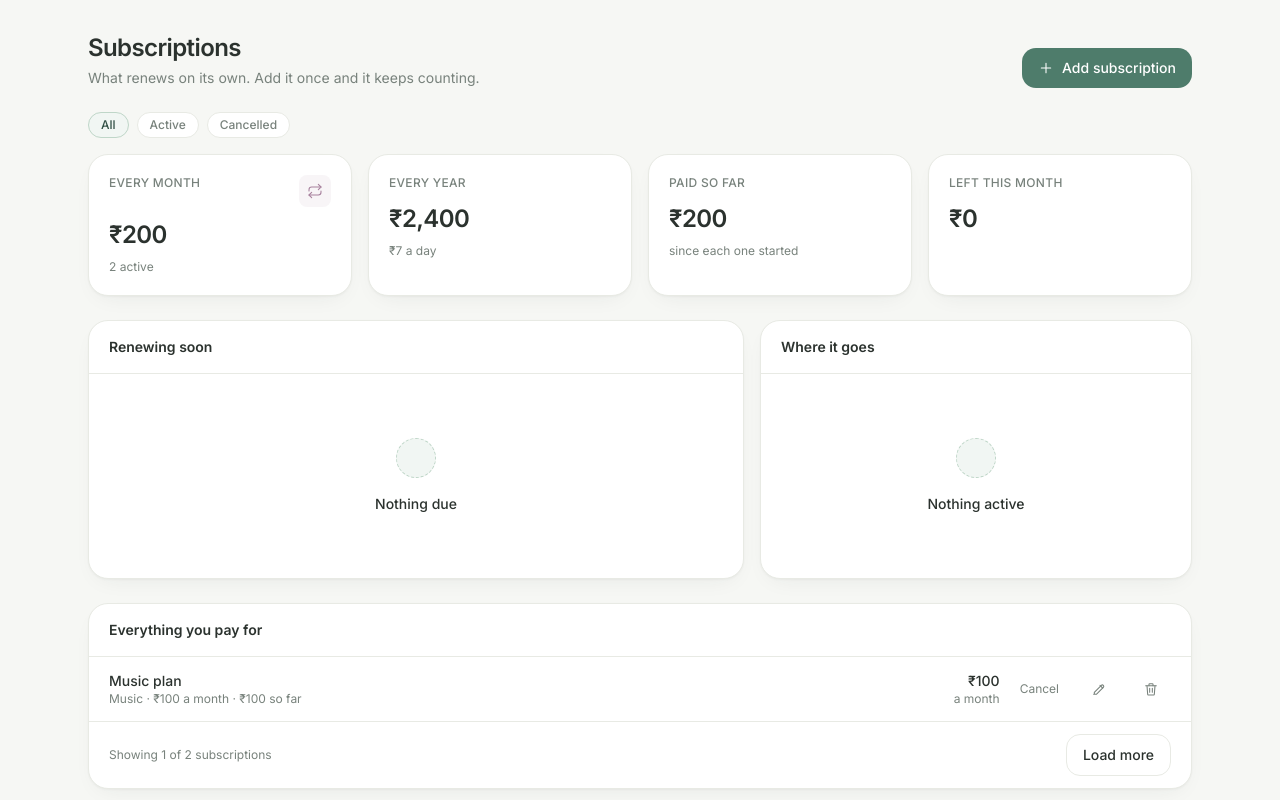
it: loads subscriptions beyond the first page and resets when filtering
The width and height of the screenshot is (1280, 800).
Expected: the text "Music plan" is shown, [109, 672, 182, 689]
Step 1. Click the button "Load more" → (1118, 755), box [1066, 734, 1171, 776]
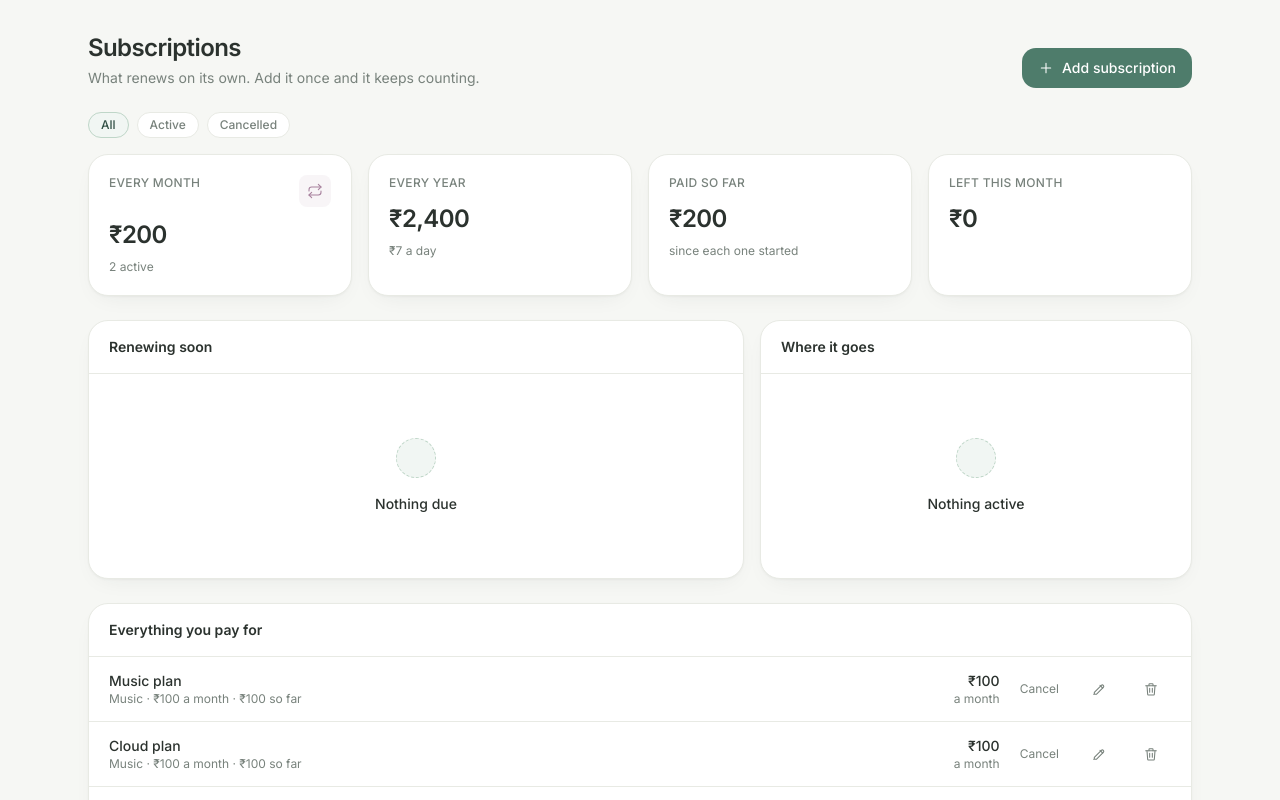
Now the text "Cloud plan" is shown, box [109, 737, 181, 754]
Step 2. Click the button "Cancelled" → (248, 125), box [207, 112, 290, 138]
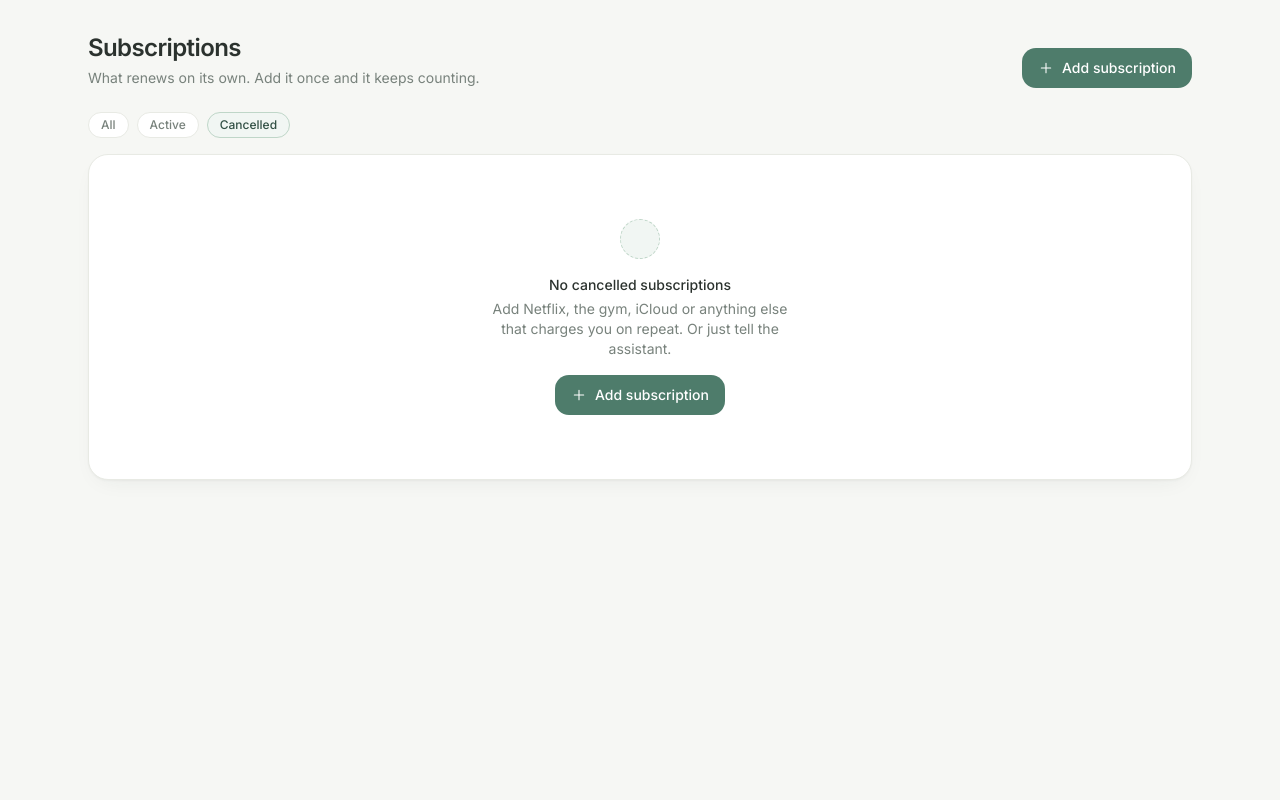
Now the text "No cancelled subscriptions" is shown, box [549, 275, 731, 295]
Now the text "Cloud plan" is gone
